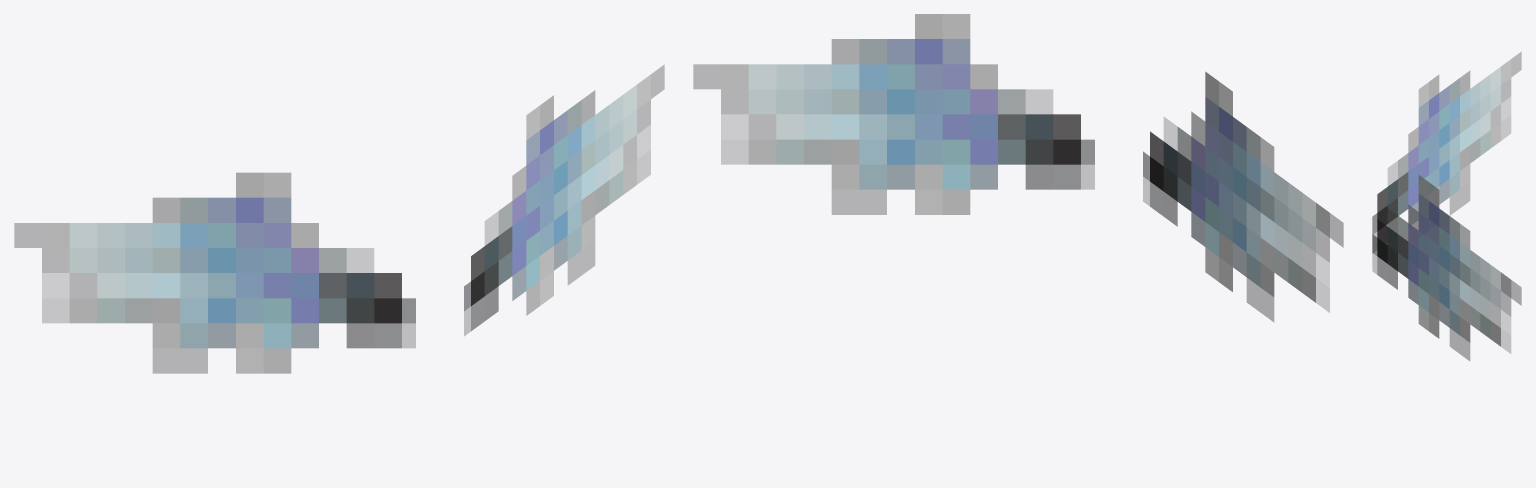
The model's file is sl_holo_wings.glb.
3 renders of one model, left to right at view 1: azimuth 30°, elevation 25°; view 2: azimuth 150°, elevation 25°; view 3: azimuth 270°, elevation 25°, orthographic. The views are drawn at different scales.
Parts seen in each view (by area): view 1: bb_holo_wings; view 2: bb_holo_wings; view 3: bb_holo_wings.
Boxes of the visible parts, x1,y1,x2,y2 form: bb_holo_wings: (14,65,664,373); bb_holo_wings: (693,14,1343,321); bb_holo_wings: (1372,52,1521,360).
Bounding box in the file's own units: 3.39 × 1.5 × 0.9062.
Materials: 1 (1 with a texture image).
